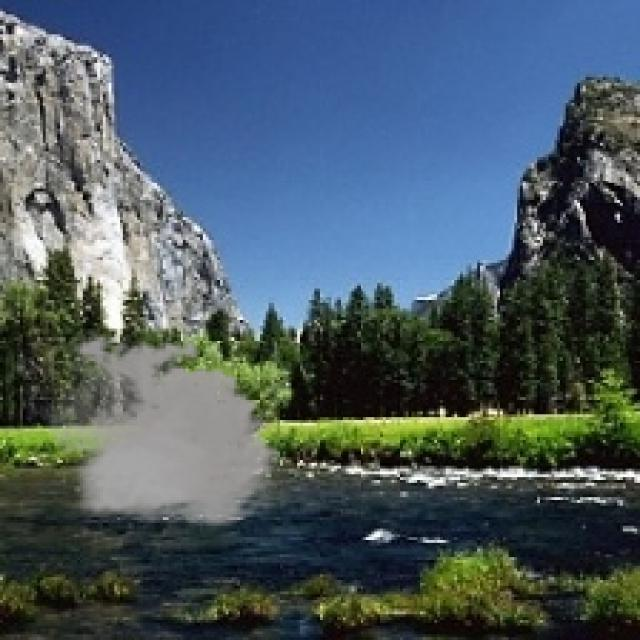Smoke: (35, 328, 292, 534)
